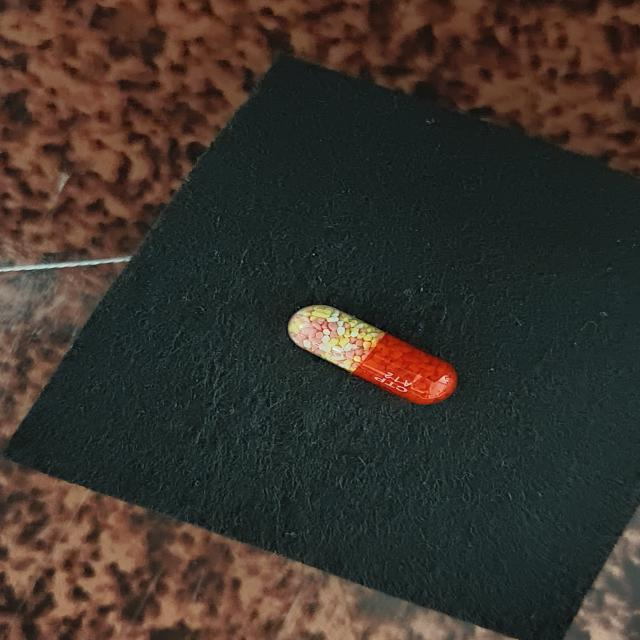Intact Capsule: (288, 305, 458, 405)
